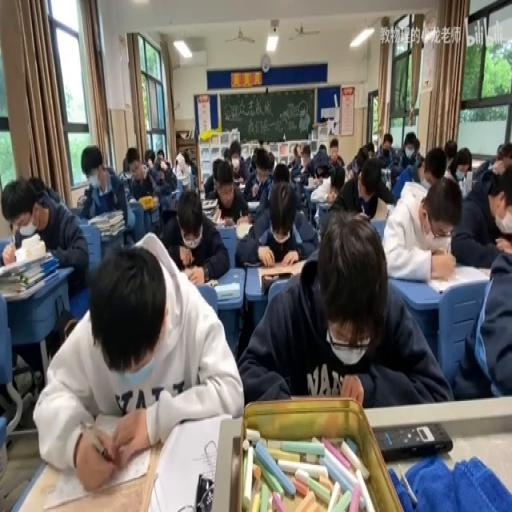calculator: (426, 262, 490, 294), (256, 256, 307, 287), (214, 282, 240, 300), (370, 214, 386, 238), (460, 170, 474, 196), (234, 218, 252, 238), (200, 198, 217, 218), (210, 215, 233, 226), (138, 194, 156, 208), (475, 264, 491, 278), (381, 168, 391, 189), (170, 189, 180, 205), (246, 199, 260, 209), (180, 174, 190, 186), (306, 176, 316, 188), (77, 194, 87, 206), (128, 196, 139, 205), (293, 176, 302, 184), (236, 184, 245, 190)
paper: (35, 230, 242, 490), (238, 208, 448, 410), (2, 170, 88, 296), (449, 155, 512, 270), (160, 185, 230, 283), (80, 145, 131, 245), (328, 155, 394, 222), (242, 146, 271, 202), (148, 146, 177, 194), (393, 132, 419, 179), (418, 147, 446, 189), (203, 154, 223, 196), (376, 132, 397, 165), (346, 147, 366, 179), (326, 138, 345, 166), (311, 148, 330, 176), (471, 156, 492, 180), (287, 145, 303, 176), (443, 138, 457, 168), (28, 174, 47, 196), (272, 162, 290, 184), (496, 141, 512, 159), (230, 140, 242, 160), (144, 146, 155, 166), (248, 150, 258, 170), (328, 175, 338, 192), (122, 155, 130, 176), (183, 151, 193, 166), (155, 150, 165, 164), (366, 141, 374, 156), (301, 149, 310, 162), (413, 142, 420, 156), (318, 144, 326, 154), (224, 148, 230, 161)
person: (374, 422, 451, 461), (194, 471, 214, 509), (202, 277, 218, 286), (240, 262, 259, 267)
